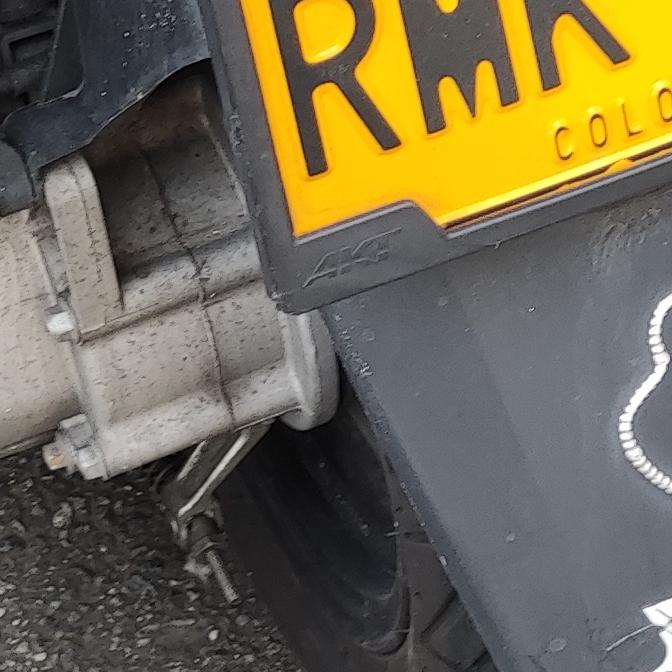plates: (210, 0, 672, 324)
